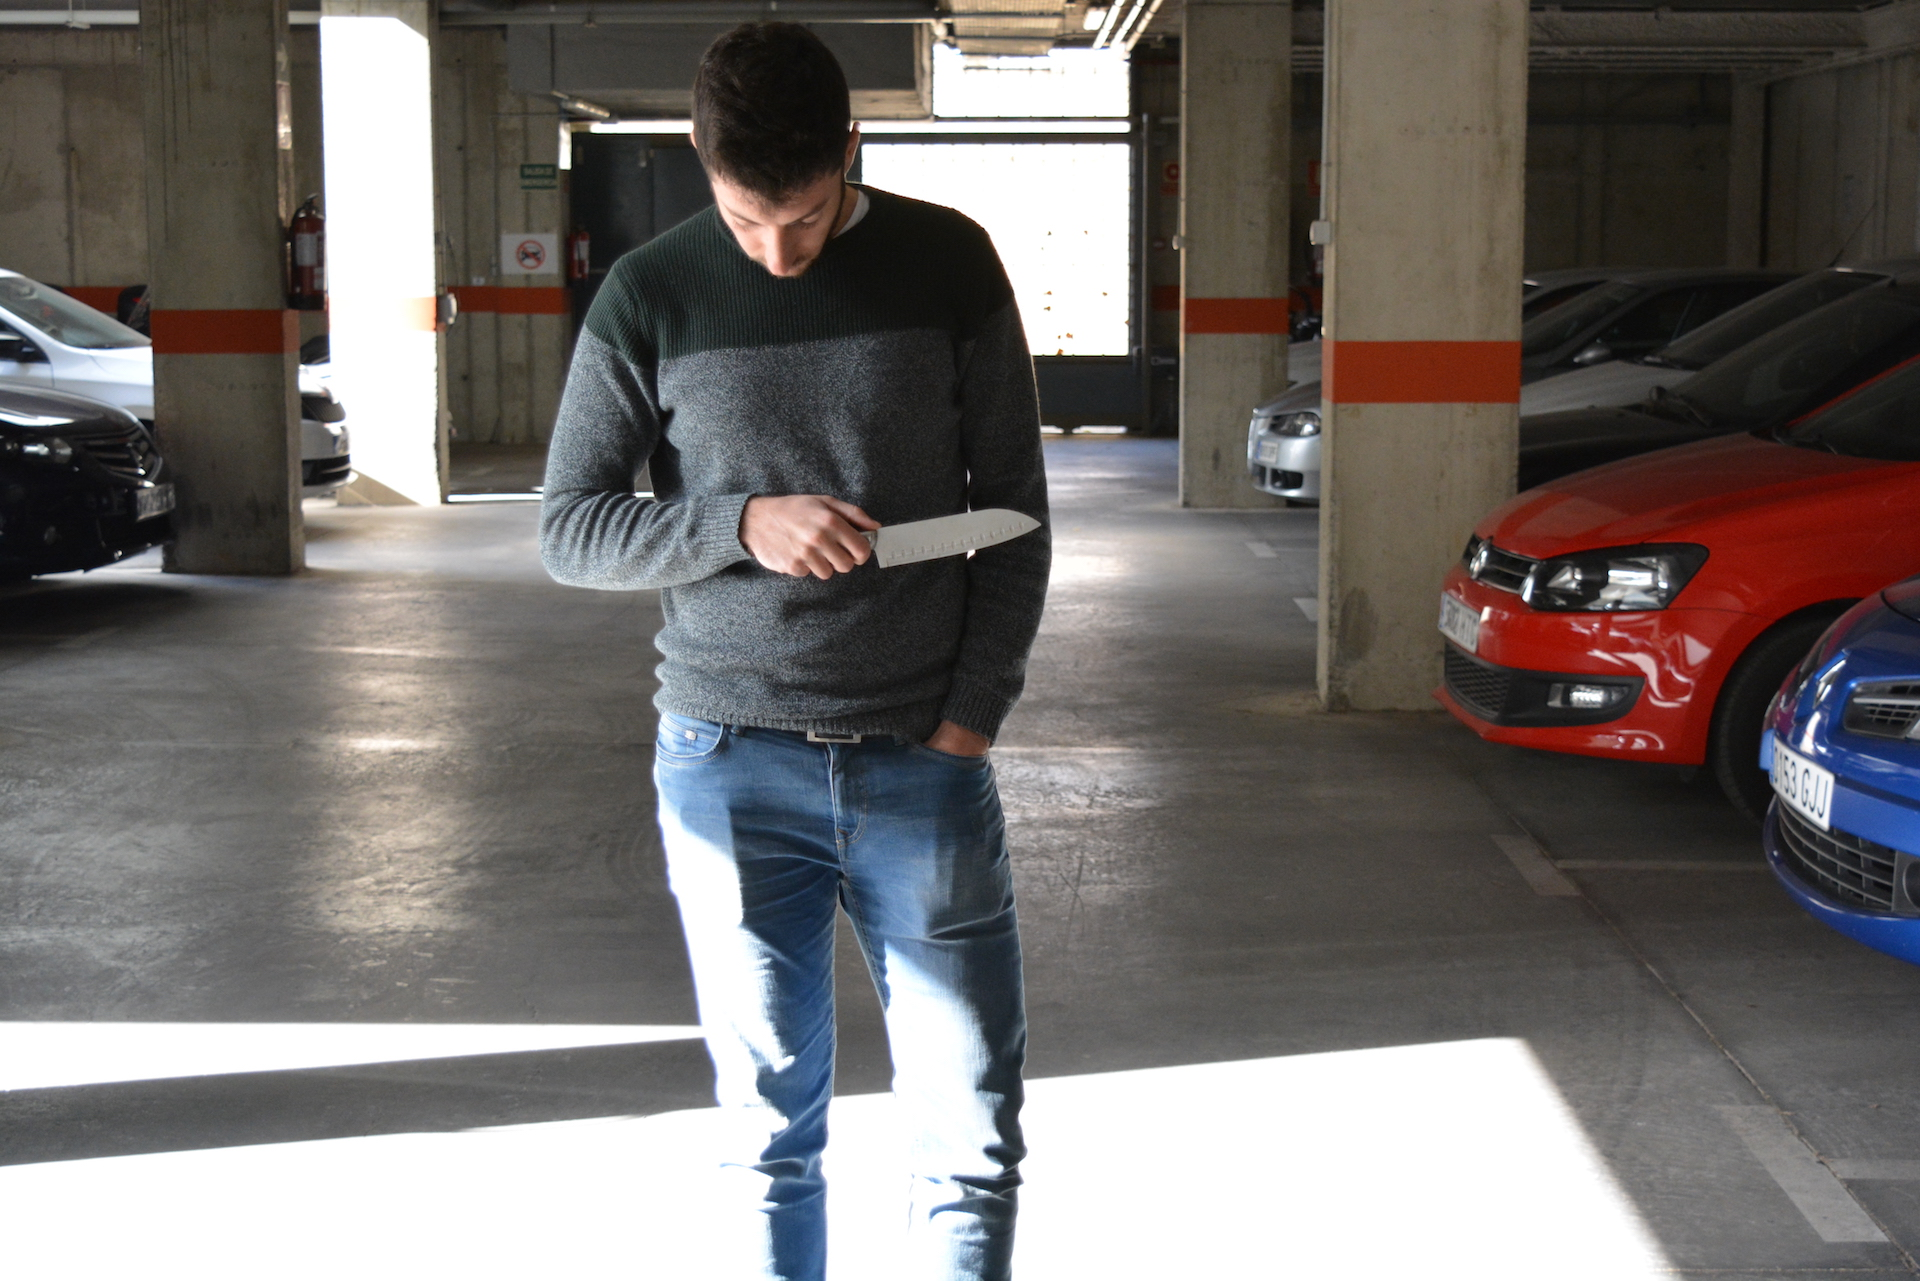knife: (845, 495, 1054, 576)
